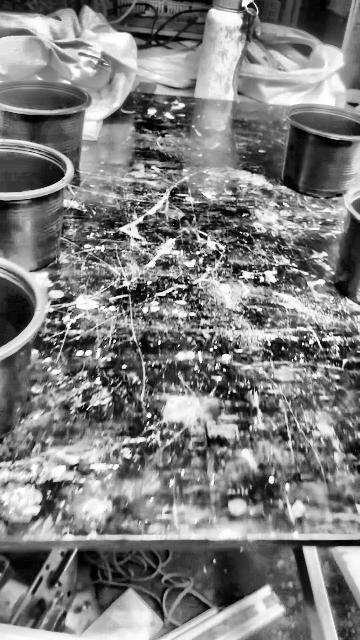pot: (0, 139, 73, 271), (1, 80, 91, 185), (0, 259, 45, 439), (283, 106, 360, 197), (335, 187, 359, 304)
